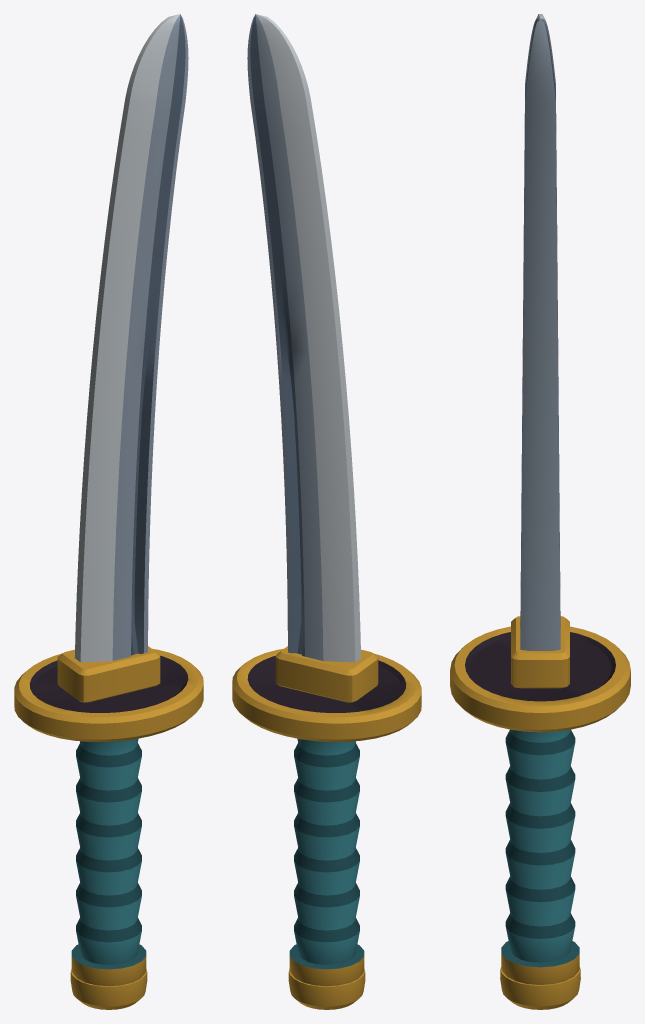
File: Katana_08.glb
The picture shows the model from 3 angles, left to right: view 1: azimuth 30°, elevation 25°; view 2: azimuth 150°, elevation 25°; view 3: azimuth 270°, elevation 25°; orthographic projection. The views are drawn at different scales.
Visible parts, largest first — view 1: Katana_08; view 2: Katana_08; view 3: Katana_08.
Boxes of the visible parts, <box> form: Katana_08: <box>14,14,203,1009</box>; Katana_08: <box>232,14,421,1009</box>; Katana_08: <box>450,14,630,1009</box>.
Bounding box in the file's own units: 1.22 × 6.65 × 1.07.
